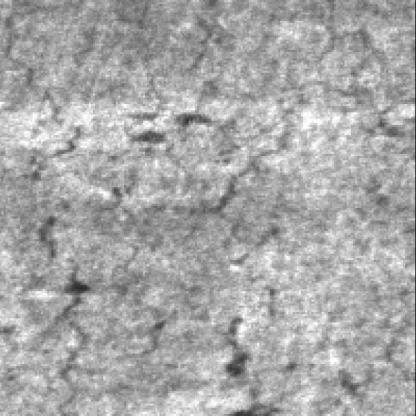crazing: (92, 2, 260, 376), (0, 4, 85, 414), (320, 175, 406, 393), (46, 260, 154, 402)
